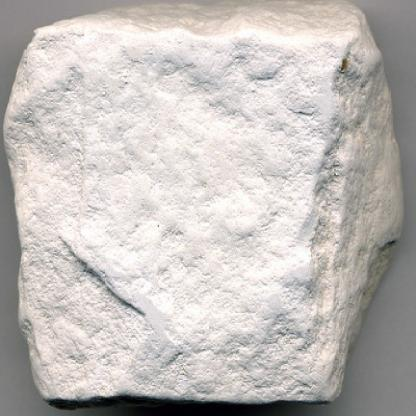Sedimentary_Chalk: (4, 5, 407, 415)
